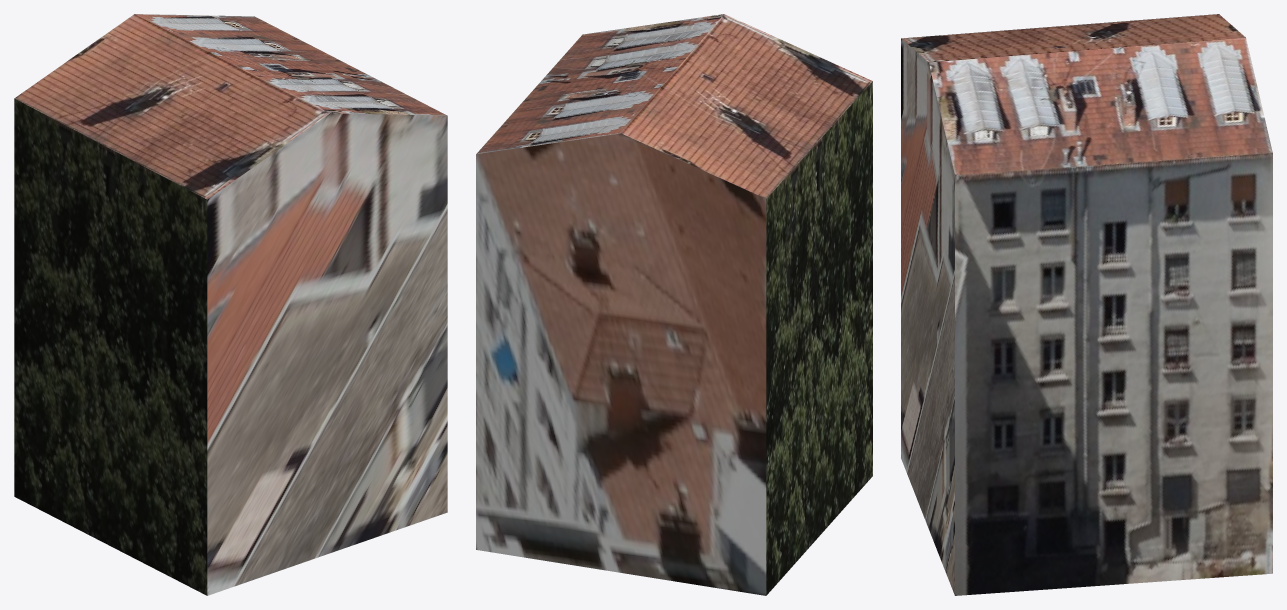
3 views of the same model, side by side, from view 1: azimuth 30°, elevation 25°; view 2: azimuth 150°, elevation 25°; view 3: azimuth 270°, elevation 25° (orthographic). The views are drawn at different scales.
Visible parts, largest first — view 1: Z_UP; view 2: Z_UP; view 3: Z_UP.
Part boxes in pixels (x1,y1,x2,y2): Z_UP: (14, 14, 447, 595); Z_UP: (476, 14, 872, 595); Z_UP: (901, 14, 1272, 595).
Size of the model in its own units: 17.36 by 23.69 by 17.08.
Materials: 2 (1 with a texture image).
